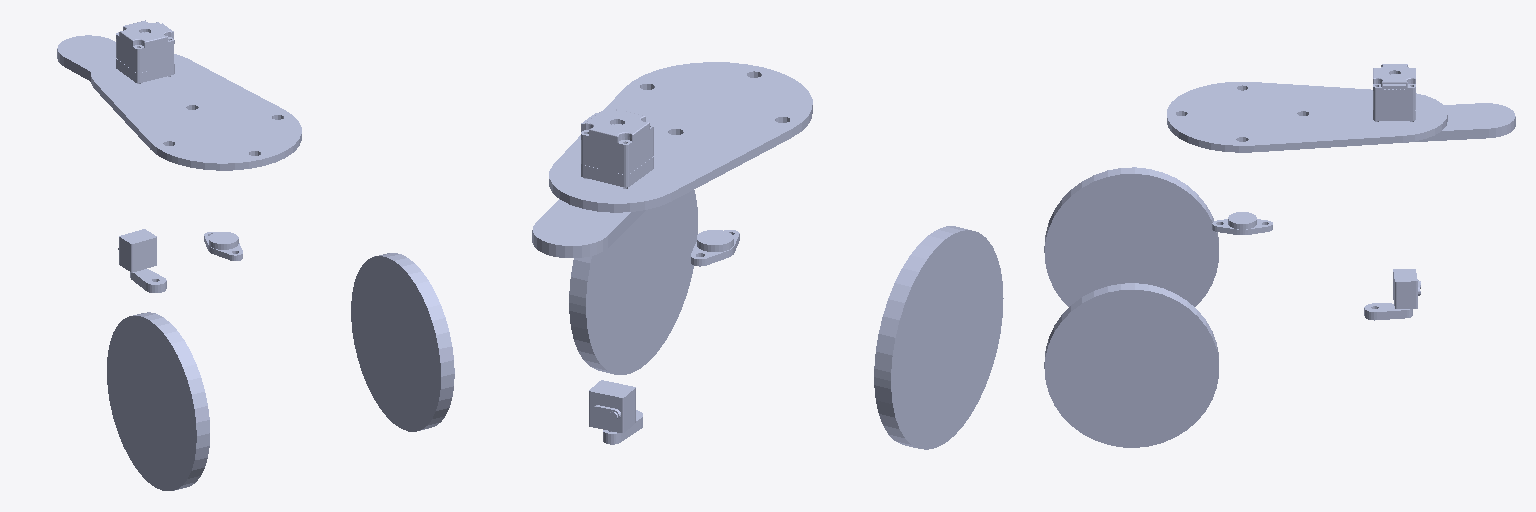
The robot description file, URDF, robot "tank":
<robot
  name="tank">
  <link
    name="base_link">
    <inertial>
      <origin
        xyz="-0.000108524182377716 -0.0902990594185242 0.103208198426333"
        rpy="0 0 0" />
      <mass
        value="0.601600157707464" />
      <inertia
        ixx="0.000505576859179843"
        ixy="1.46950197406681E-08"
        ixz="-8.69613423387717E-12"
        iyy="0.000337220178000293"
        iyz="-1.27464867949561E-07"
        izz="0.000697907468491316" />
    </inertial>
    <visual>
      <origin
        xyz="0 0 0"
        rpy="0 0 0" />
      <geometry>
        <mesh
          filename="package://tank_gmapping/meshes/base_link.STL" />
      </geometry>
      <material
        name="">
        <color
          rgba="0.298039215686275 0.298039215686275 0.298039215686275 1" />
      </material>
    </visual>
    <collision>
      <origin
        xyz="0 0 0"
        rpy="0 0 0" />
      <geometry>
        <mesh
          filename="package://tank_gmapping/meshes/base_link.STL" />
      </geometry>
    </collision>
  </link>
  
  <link
    name="right_wheel">
    <inertial>
      <origin
        xyz="0.00499999999999998 2.22044604925031E-16 2.62723870436687E-15"
        rpy="0 0 0" />
      <mass
        value="0.103868907109313" />
      <inertia
        ixx="0.000171708287065082"
        ixy="-7.08934587225641E-19"
        ixz="3.40544321211376E-20"
        iyy="8.67197177584521E-05"
        iyz="-2.7631389141895E-34"
        izz="8.67197177584521E-05" />
    </inertial>
    <visual>
      <origin
        xyz="0 0 0"
        rpy="0 0 0" />
      <geometry>
        <mesh
          filename="package://tank_gmapping/meshes/right_wheel.STL" />
      </geometry>
      <material
        name="">
        <color
          rgba="0.792156862745098 0.819607843137255 0.933333333333333 1" />
      </material>
    </visual>
    <collision>
      <origin
        xyz="0 0 0"
        rpy="0 0 0" />
      <geometry>
        <mesh
          filename="package://tank_gmapping/meshes/right_wheel.STL" />
      </geometry>
    </collision>
  </link>
  <joint
    name="rightwheel"
    type="continuous">
    <origin
      xyz="0.0848249872388515 -0.159816940607637 0.0574499999999974"
      rpy="0 0 0" />
    <parent
      link="base_link" />
    <child
      link="right_wheel" />
    <axis
      xyz="1 0 0" />
  </joint>
  <link
    name="left_wheel">
    <inertial>
      <origin
        xyz="-0.00499999999999991 2.4980018054066E-16 -1.56819002228303E-15"
        rpy="0 0 0" />
      <mass
        value="0.103868907109312" />
      <inertia
        ixx="0.000171708287065082"
        ixy="-7.359543827722E-19"
        ixz="1.76742618868712E-21"
        iyy="8.67197177584521E-05"
        iyz="-1.63619081435316E-35"
        izz="8.6719717758452E-05" />
    </inertial>
    <visual>
      <origin
        xyz="0 0 0"
        rpy="0 0 0" />
      <geometry>
        <mesh
          filename="package://tank_gmapping/meshes/left_wheel.STL" />
      </geometry>
      <material
        name="">
        <color
          rgba="0.792156862745098 0.819607843137255 0.933333333333333 1" />
      </material>
    </visual>
    <collision>
      <origin
        xyz="0 0 0"
        rpy="0 0 0" />
      <geometry>
        <mesh
          filename="package://tank_gmapping/meshes/left_wheel.STL" />
      </geometry>
    </collision>
  </link>
  <joint
    name="leftwheel"
    type="continuous">
    <origin
      xyz="-0.0851750127611487 -0.159816940607636 0.0574500000000015"
      rpy="0 0 0" />
    <parent
      link="base_link" />
    <child
      link="left_wheel" />
    <axis
      xyz="1 0 0" />
  </joint>
  <link
    name="banh_dan_dong_trai">
    <inertial>
      <origin
        xyz="0.00499999999999998 -5.55111512312578E-17 8.67361737988404E-19"
        rpy="0 0 0" />
      <mass
        value="0.103868907109313" />
      <inertia
        ixx="0.000171708287065082"
        ixy="-7.1690874188323E-19"
        ixz="3.24686946983214E-20"
        iyy="8.67197177584522E-05"
        iyz="-2.8266535187949E-34"
        izz="8.67197177584521E-05" />
    </inertial>
    <!--visual>
      <origin
        xyz="0 0 0"
        rpy="0 0 0" />
      <geometry>
        <mesh
          filename="package://tank_gmapping/meshes/banh_dan_dong_trai.STL" />
      </geometry>
      <material
        name="">
        <color
          rgba="0.792156862745098 0.819607843137255 0.933333333333333 1" />
      </material>
    </visual-->
    <collision>
      <origin
        xyz="0 0 0"
        rpy="0 0 0" />
      <geometry>
        <mesh
          filename="package://tank_gmapping/meshes/banh_dan_dong_trai.STL" />
      </geometry>
    </collision>
  </link>
  <joint
    name="banhdandongtrai"
    type="continuous">
    <origin
      xyz="-0.0991750127611473 -0.0116823353048084 0.05755"
      rpy="0 0 0" />
    <parent
      link="base_link" />
    <child
      link="banh_dan_dong_trai" />
    <axis
      xyz="1 0 0" />
  </joint>
  <link
    name="lidar">
    <inertial>
      <origin
        xyz="-1.29757316003065E-15 6.51605505663788E-17 -0.00457887144189027"
        rpy="0 0 0" />
      <mass
        value="0.00319215300114559" />
      <inertia
        ixx="2.18569137230852E-07"
        ixy="4.70988568996397E-22"
        ixz="7.51261257123066E-25"
        iyy="8.69531442161916E-08"
        iyz="4.84629312118416E-24"
        izz="2.7361198023536E-07" />
    </inertial>
    <visual>
      <origin
        xyz="0 0 0"
        rpy="0 0 0" />
      <geometry>
        <mesh
          filename="package://tank_gmapping/meshes/lidar.STL" />
      </geometry>
      <material
        name="">
        <color
          rgba="0.792156862745098 0.819607843137255 0.933333333333333 1" />
      </material>
    </visual>
    <collision>
      <origin
        xyz="0 0 0"
        rpy="0 0 0" />
      <geometry>
        <mesh
          filename="package://tank_gmapping/meshes/lidar.STL" />
      </geometry>
    </collision>
  </link>
  <joint
    name="lidar_joint"
    type="fixed">
    <origin
      xyz="-0.000175012761146634 -0.0870967209817709 0.122466815589433"
      rpy="0 0 0" />
    <parent
      link="base_link" />
    <child
      link="lidar" />
    <axis
      xyz="0 0 0" />
  </joint>
  <link
    name="camera">
    <inertial>
      <origin
        xyz="-0.00117819293604169 0.0173989447073359 0.00900130287593785"
        rpy="0 0 0" />
      <mass
        value="0.00827936767688675" />
      <inertia
        ixx="1.08061936654004E-06"
        ixy="1.97042592918232E-08"
        ixz="1.96963583456045E-08"
        iyy="8.2969788252791E-07"
        iyz="-2.82950264207049E-07"
        izz="7.09371776486622E-07" />
    </inertial>
    <visual>
      <origin
        xyz="0 0 0"
        rpy="0 0 0" />
      <geometry>
        <mesh
          filename="package://tank_gmapping/meshes/camera.STL" />
      </geometry>
      <material
        name="">
        <color
          rgba="0.792156862745098 0.819607843137255 0.933333333333333 1" />
      </material>
    </visual>
    <collision>
      <origin
        xyz="0 0 0"
        rpy="0 0 0" />
      <geometry>
        <mesh
          filename="package://tank_gmapping/meshes/camera.STL" />
      </geometry>
    </collision>
  </link>
  <joint
    name="camera_joint"
    type="fixed">
    <origin
      xyz="0 0 0.0574668155894326"
      rpy="0 0 0" />
    <parent
      link="base_link" />
    <child
      link="camera" />
    
  </joint>
  <link
    name="prismatic">
    <inertial>
      <origin
        xyz="2.87917391697118E-05 0.0526201488979757 0.00158552735898043"
        rpy="0 0 0" />
      <mass
        value="0.0930996208354306" />
      <inertia
        ixx="0.000168501130943866"
        ixy="2.14940445237952E-11"
        ixz="-3.09659639537977E-08"
        iyy="4.49018685905745E-05"
        iyz="1.64722797721107E-11"
        izz="0.000209740976030147" />
    </inertial>
    <visual>
      <origin
        xyz="0 0 0"
        rpy="0 0 0" />
      <geometry>
        <mesh
          filename="package://tank_gmapping/meshes/prismatic.STL" />
      </geometry>
      <material
        name="">
        <color
          rgba="0.792156862745098 0.819607843137255 0.933333333333333 1" />
      </material>
    </visual>
    <collision>
      <origin
        xyz="0 0 0"
        rpy="0 0 0" />
      <geometry>
        <mesh
          filename="package://tank_gmapping/meshes/prismatic.STL" />
      </geometry>
    </collision>
  </link>
  <joint
    name="prismatic_joint"
    type="prismatic">
    <origin
      xyz="-0.000175012761147599 -0.0870967209817715 0.198092664567826"
      rpy="0 0 0" />
    <parent
      link="base_link" />
    <child
      link="prismatic" />
    <axis
      xyz="0 0 1" />
    <limit
      lower="-0.03"
      upper="0.03"
      effort="50"
      velocity="0.01" />
  </joint>
  <link
    name="revolt_joint">
    <inertial>
      <origin
        xyz="-0.00374993354854962 0.0301861089970053 0.0035"
        rpy="0 0 0" />
      <mass
        value="0.0252446010528494" />
      <inertia
        ixx="1.7870968887505E-05"
        ixy="1.81988369150149E-06"
        ixz="2.55836890381603E-25"
        iyy="3.44739955007039E-06"
        iyz="8.11433088326687E-23"
        izz="2.11122041956438E-05" />
    </inertial>
    <visual>
      <origin
        xyz="0 0 0"
        rpy="0 0 0" />
      <geometry>
        <mesh
          filename="package://tank_gmapping/meshes/revolt_joint.STL" />
      </geometry>
      <material
        name="">
        <color
          rgba="0.792156862745098 0.819607843137255 0.933333333333333 1" />
      </material>
    </visual>
    <collision>
      <origin
        xyz="0 0 0"
        rpy="0 0 0" />
      <geometry>
        <mesh
          filename="package://tank_gmapping/meshes/revolt_joint.STL" />
      </geometry>
    </collision>
  </link>
  <joint
    name="revoltjoint"
    type="revolute">
    <origin
      xyz="0 0.1 -0.012"
      rpy="0 0 0" />
    <parent
      link="prismatic" />
    <child
      link="revolt_joint" />
    <axis
      xyz="0 0 1" />
    <limit
      lower="-1.57"
      upper="1.57"
      effort="5"
      velocity="0.5" />
  </joint>
  <link
    name="banh_dan_dong_phai">
    <inertial>
      <origin
        xyz="-0.005 4.1633E-17 6.0715E-18"
        rpy="0 0 0" />
      <mass
        value="0.10387" />
      <inertia
        ixx="0.00017171"
        ixy="-7.4092E-19"
        ixz="5.6469E-22"
        iyy="8.672E-05"
        iyz="5.6469E-21"
        izz="8.672E-05" />
    </inertial>
    <!--visual>
      <origin
        xyz="0 0 0"
        rpy="0 0 0" />
      <geometry>
        <mesh
          filename="package://tank_gmapping/meshes/banh_dan_dong_phai.STL" />
      </geometry>
      <material
        name="">
        <color
          rgba="0.79216 0.81961 0.93333 1" />
      </material>
    </visual-->
    <collision>
      <origin
        xyz="0 0 0"
        rpy="0 0 0" />
      <geometry>
        <mesh
          filename="package://tank_gmapping/meshes/banh_dan_dong_phai.STL" />
      </geometry>
    </collision>
  </link>
  <joint
    name="banhdandongphai"
    type="continuous">
    <origin
      xyz="0.0998249872388527 -0.0117323353048101 0.0575"
      rpy="0 0 0" />
    <parent
      link="base_link" />
    <child
      link="banh_dan_dong_phai" />
    <axis
      xyz="1 0 0" />
  </joint>
  
</robot>

--- Facts derived from the render (not from the file) ---
Views: 3 orthographic renders of the robot side by side, from view 1: azimuth 30°, elevation 25°; view 2: azimuth 150°, elevation 25°; view 3: azimuth 270°, elevation 25°.
Robot: tank — 9 links, 8 joints (1 revolute, 4 continuous, 1 prismatic, 2 fixed); root link base_link; default pose: every joint at zero.
Visible links, largest first — view 1: prismatic, right_wheel, left_wheel, camera, revolt_joint, lidar; view 2: prismatic, left_wheel, right_wheel, revolt_joint, camera, lidar; view 3: right_wheel, left_wheel, prismatic, revolt_joint, camera, lidar.
Boxes of the visible links, x1=… form: prismatic: x1=91, y1=20, x2=301, y2=170; right_wheel: x1=351, y1=253, x2=454, y2=431; left_wheel: x1=107, y1=312, x2=209, y2=490; camera: x1=118, y1=229, x2=166, y2=292; revolt_joint: x1=57, y1=35, x2=115, y2=81; lidar: x1=204, y1=232, x2=242, y2=260; prismatic: x1=549, y1=62, x2=812, y2=212; left_wheel: x1=874, y1=226, x2=1003, y2=449; right_wheel: x1=569, y1=190, x2=697, y2=374; revolt_joint: x1=532, y1=199, x2=645, y2=257; camera: x1=589, y1=380, x2=642, y2=444; lidar: x1=691, y1=230, x2=739, y2=266; right_wheel: x1=1044, y1=283, x2=1218, y2=447; left_wheel: x1=1044, y1=167, x2=1218, y2=306; prismatic: x1=1167, y1=64, x2=1447, y2=152; revolt_joint: x1=1406, y1=103, x2=1515, y2=142; camera: x1=1364, y1=269, x2=1420, y2=320; lidar: x1=1212, y1=212, x2=1272, y2=234.
Bounding box of the posed robot: 0.19 × 0.3097 × 0.2277 m (x, y, z).
Meshes: 7 distinct files referenced, 6 mesh visuals loaded (6 binary STL); not drawn: 1 (reference not matched to a file when rendering).
